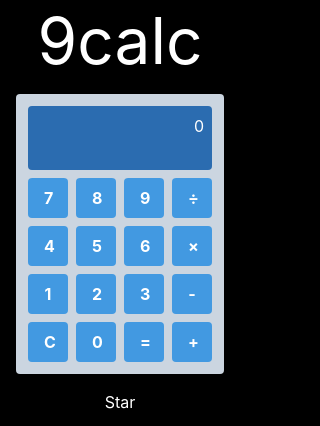
it: 9calc › can multiply numbers
Click the button "3" at (144,294), box [124, 274, 164, 314]
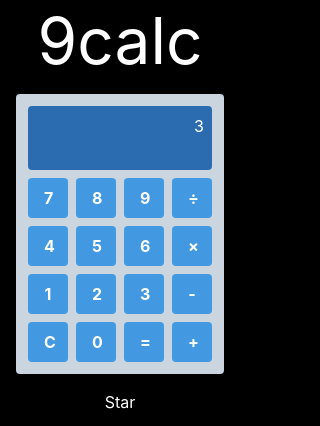
Check: the text with test id "input" reads "3", box [194, 116, 204, 136]
Click the button "×" at (192,246), box [172, 226, 212, 266]
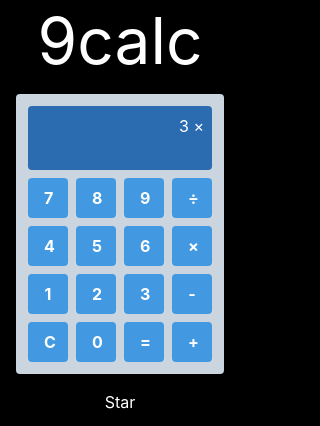
Check: the text with test id "input" reads "3 ×", box [179, 116, 204, 136]
Click the button "4" at (48,246), box [28, 226, 68, 266]
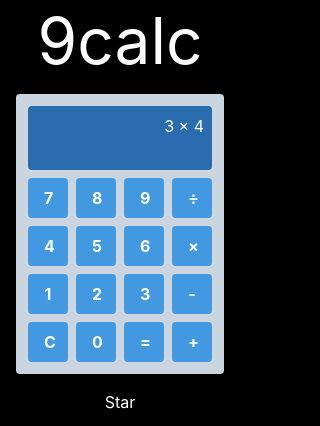
Check: the text with test id "input" reads "3 × 4", box [164, 116, 204, 136]
Click the button "=" at (144,342), box [124, 322, 164, 362]
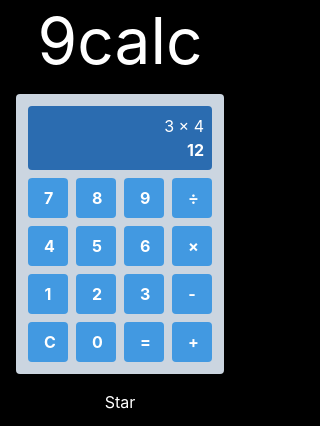
Check: the text with test id "output" reads "12", box [187, 140, 204, 160]
